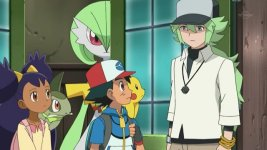gardevoir: (60, 2, 111, 150)
pikachu: (63, 72, 149, 118)
